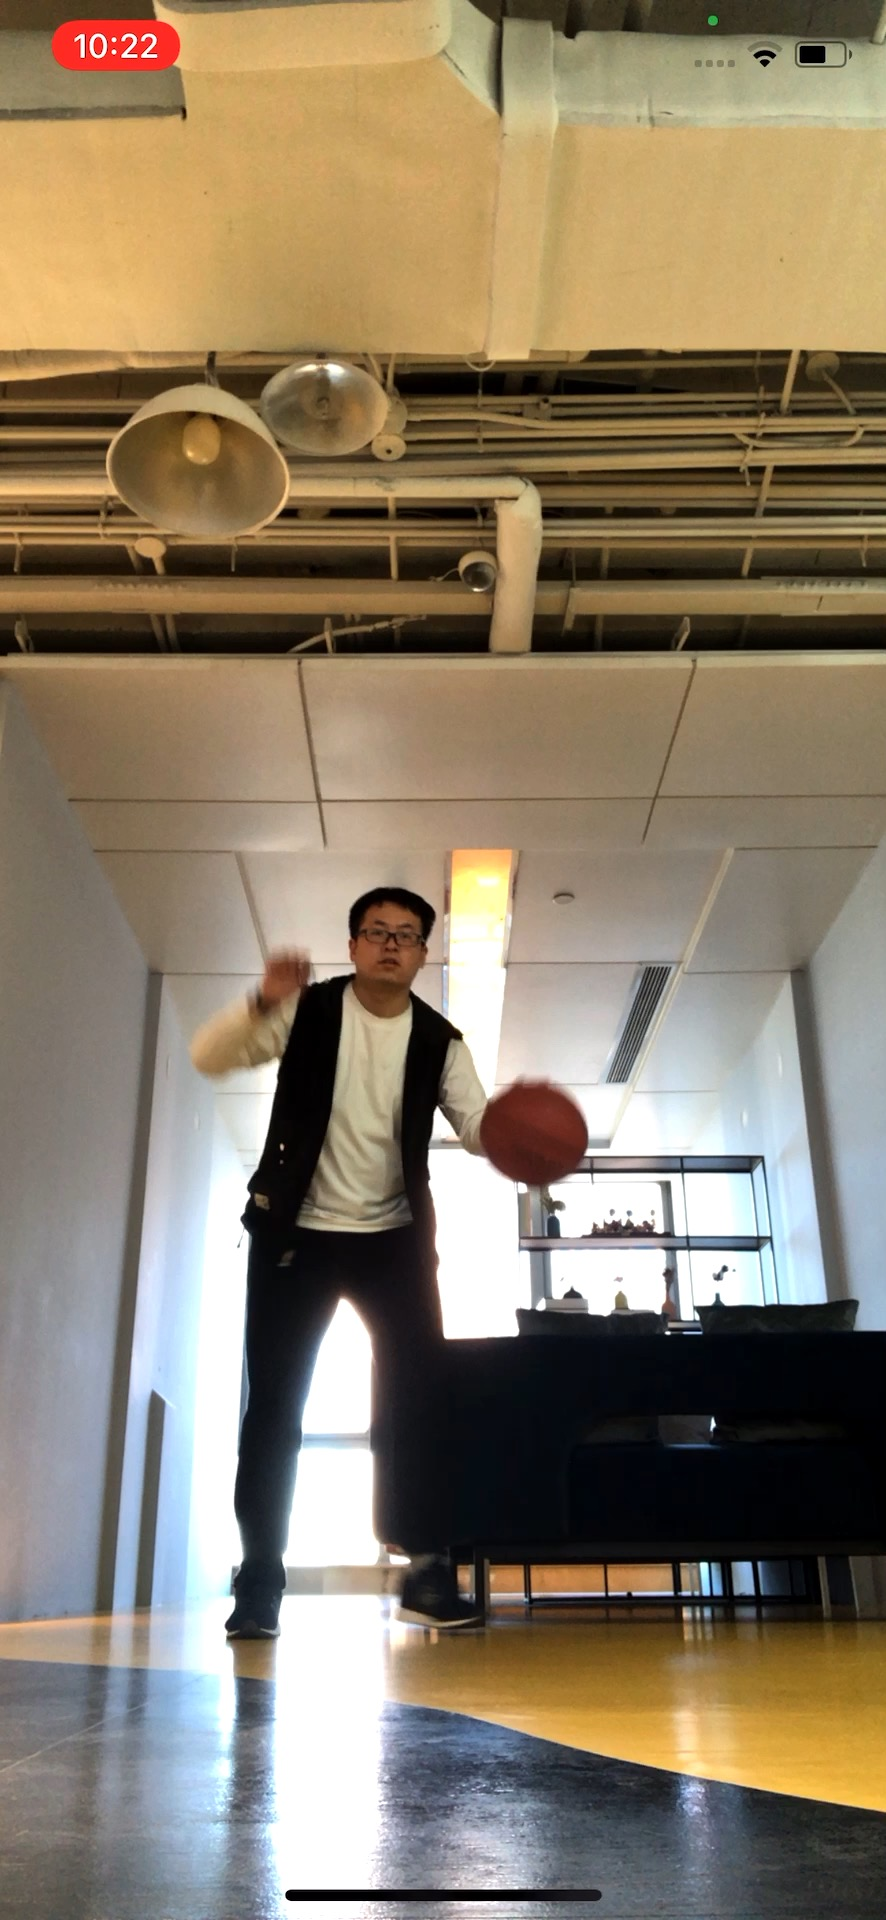ball: (476, 1080, 587, 1184)
